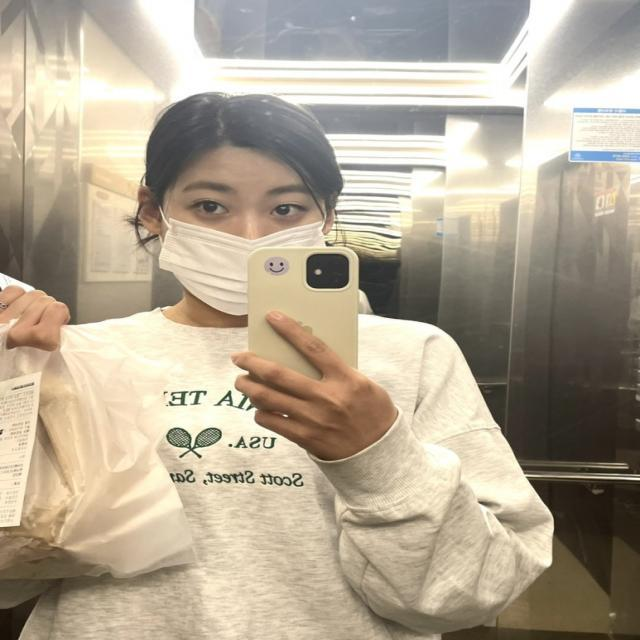phone: (246, 246, 360, 409)
